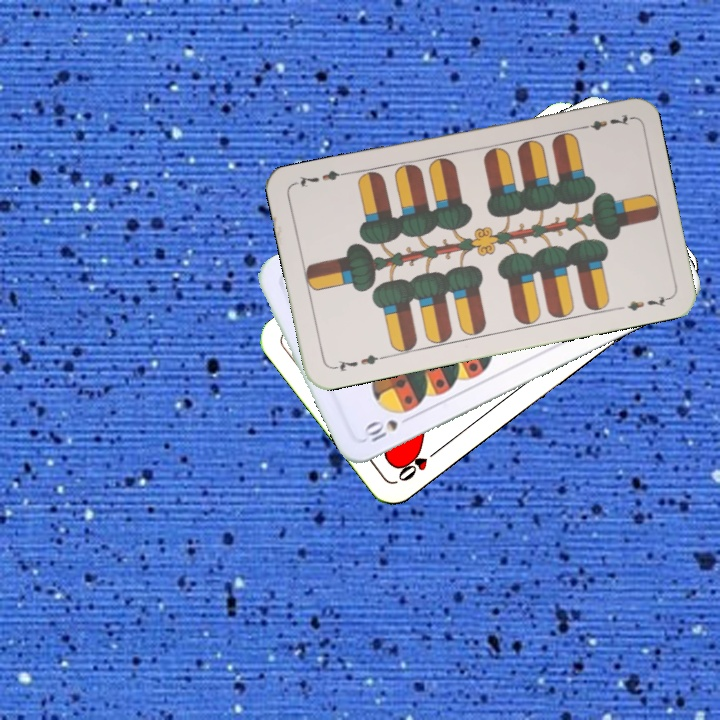E7: (328, 350, 387, 374), (574, 110, 633, 133)
HO: (394, 443, 444, 484)
S10: (359, 415, 401, 445)
